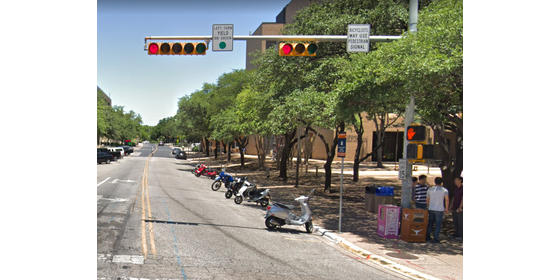bicyclists must use ped signal sign: (346, 19, 371, 55)
left turn yield on green sign: (211, 20, 234, 54)
